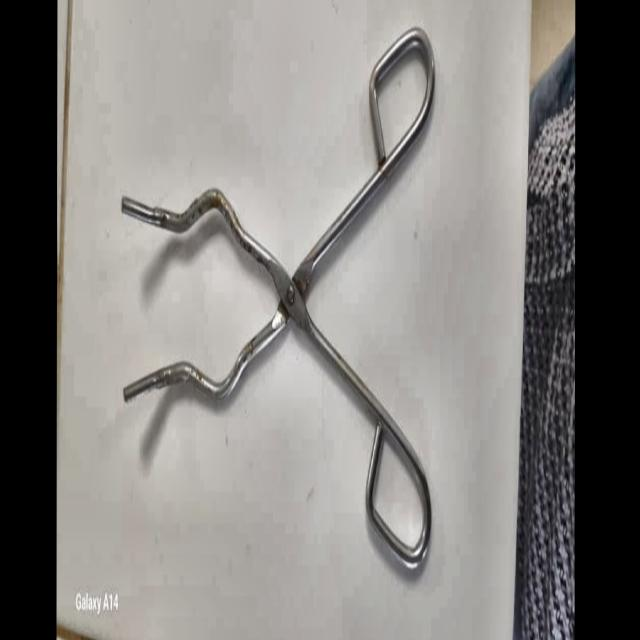Tongue: (105, 23, 452, 586)
